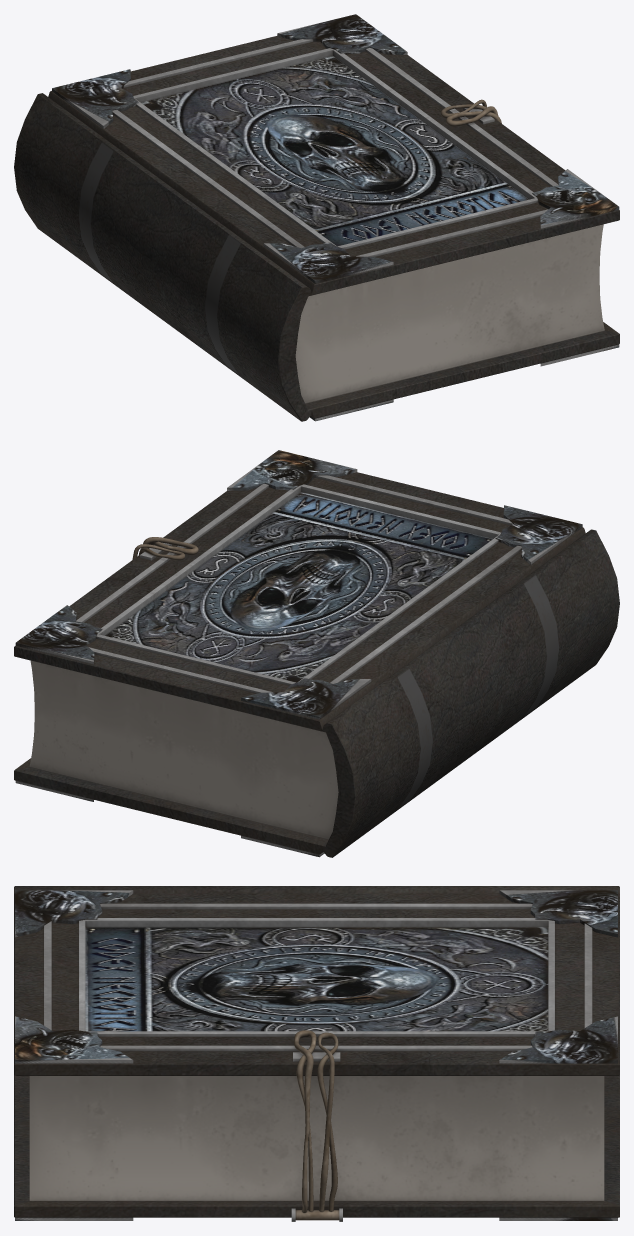
Rendered from book_of_the_dead.glb.
3 renders of one model, top to bottom at view 1: azimuth 30°, elevation 25°; view 2: azimuth 150°, elevation 25°; view 3: azimuth 270°, elevation 25°, orthographic. The views are drawn at different scales.
Parts seen in each view (by area): view 1: SiWangZhiShu_001; view 2: SiWangZhiShu_001; view 3: SiWangZhiShu_001.
Part boxes in pixels (<box>): SiWangZhiShu_001: <box>14,14,619,421</box>; SiWangZhiShu_001: <box>14,450,619,857</box>; SiWangZhiShu_001: <box>14,886,619,1221</box>.
Bounding box in the file's own units: 1.92 × 0.7606 × 2.47.
Materials: 1 (1 with a texture image).
